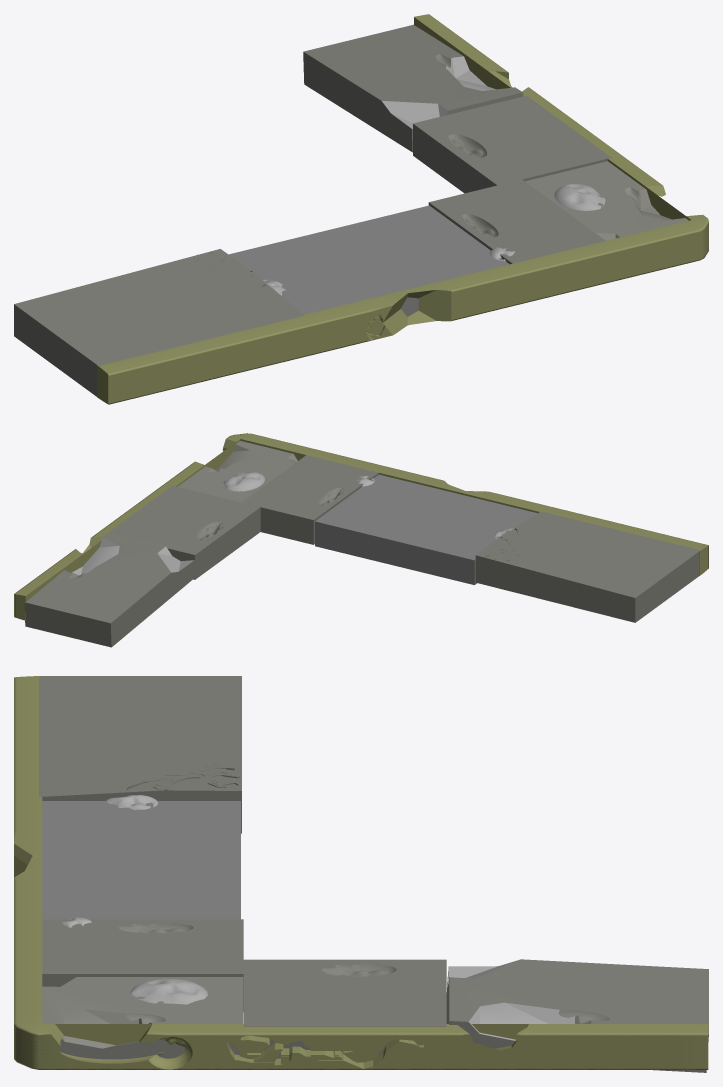
The model's file is acera esquina.fbx.
3 renders of one model, top to bottom at view 1: azimuth 30°, elevation 25°; view 2: azimuth 150°, elevation 25°; view 3: azimuth 270°, elevation 25°, orthographic. The views are drawn at different scales.
Parts seen in each view (by area): view 1: polySurface4; view 2: polySurface4; view 3: polySurface4.
Part boxes in pixels (x1=…): polySurface4: x1=14, y1=14, x2=708, y2=404; polySurface4: x1=14, y1=433, x2=708, y2=647; polySurface4: x1=14, y1=676, x2=708, y2=1072.
Size of the model in its own units: 10.15 by 0.7269 by 8.35.
